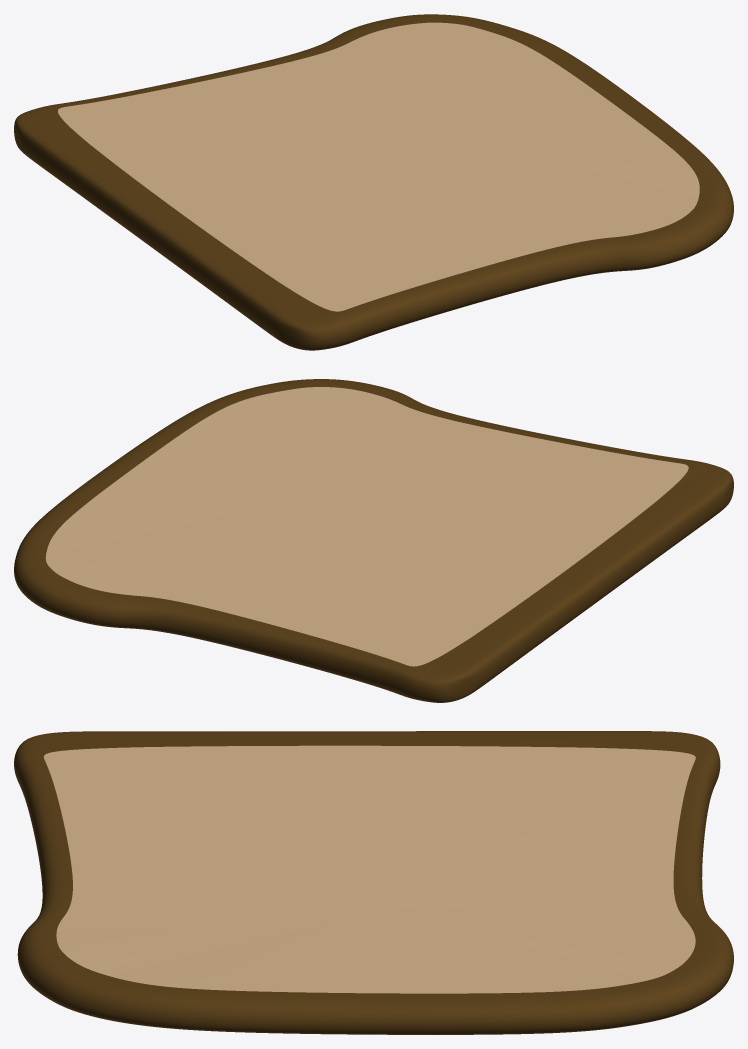
The model's file is Bread.fbx.
3 renders of one model, top to bottom at view 1: azimuth 30°, elevation 25°; view 2: azimuth 150°, elevation 25°; view 3: azimuth 270°, elevation 25°, orthographic. The views are drawn at different scales.
Visible parts, largest first — view 1: Cube.002; view 2: Cube.002; view 3: Cube.002.
Boxes of the visible parts, <box> form: Cube.002: <box>14,14,733,350</box>; Cube.002: <box>14,379,733,702</box>; Cube.002: <box>14,731,733,1034</box>.
Size of the model in its own units: 322 by 18.41 by 343.
